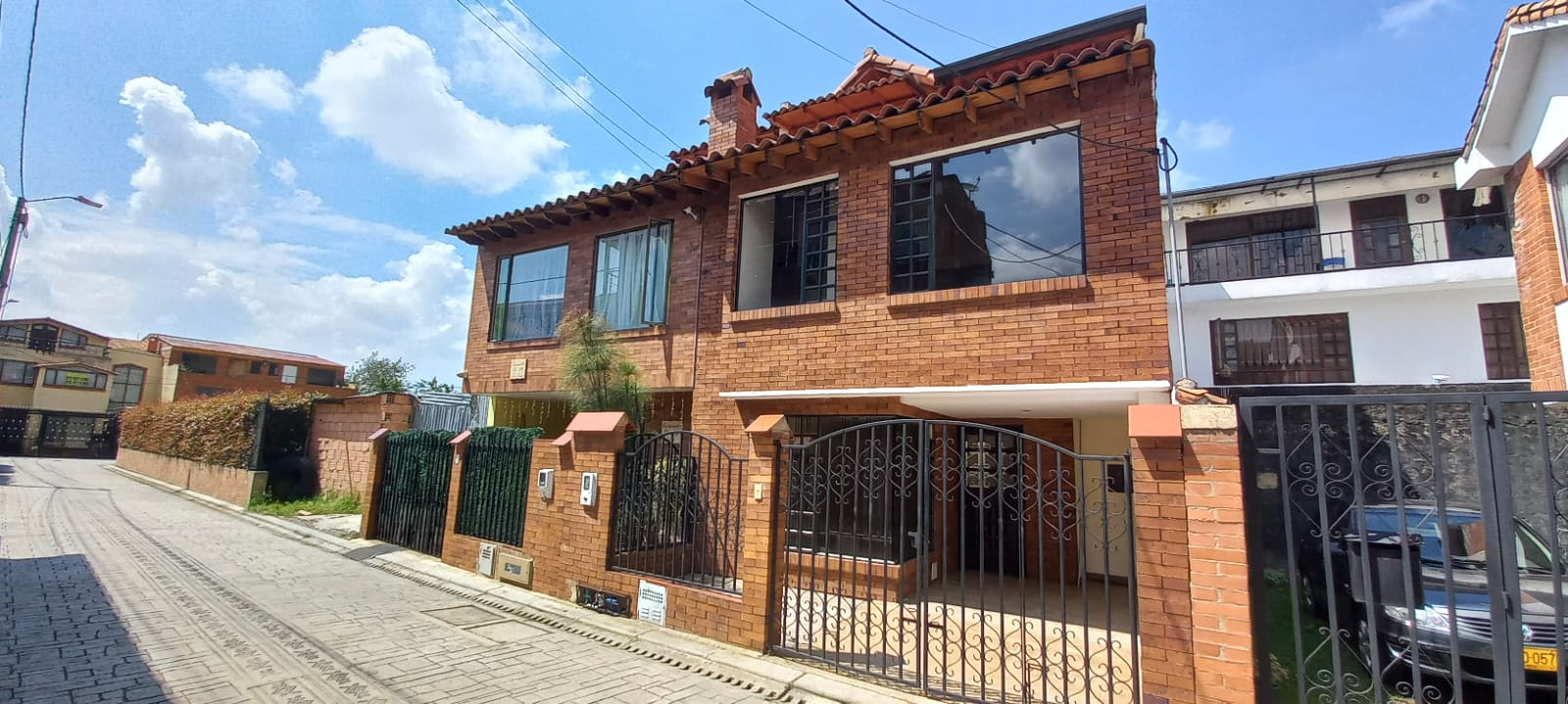House: (418, 117, 1204, 679)
